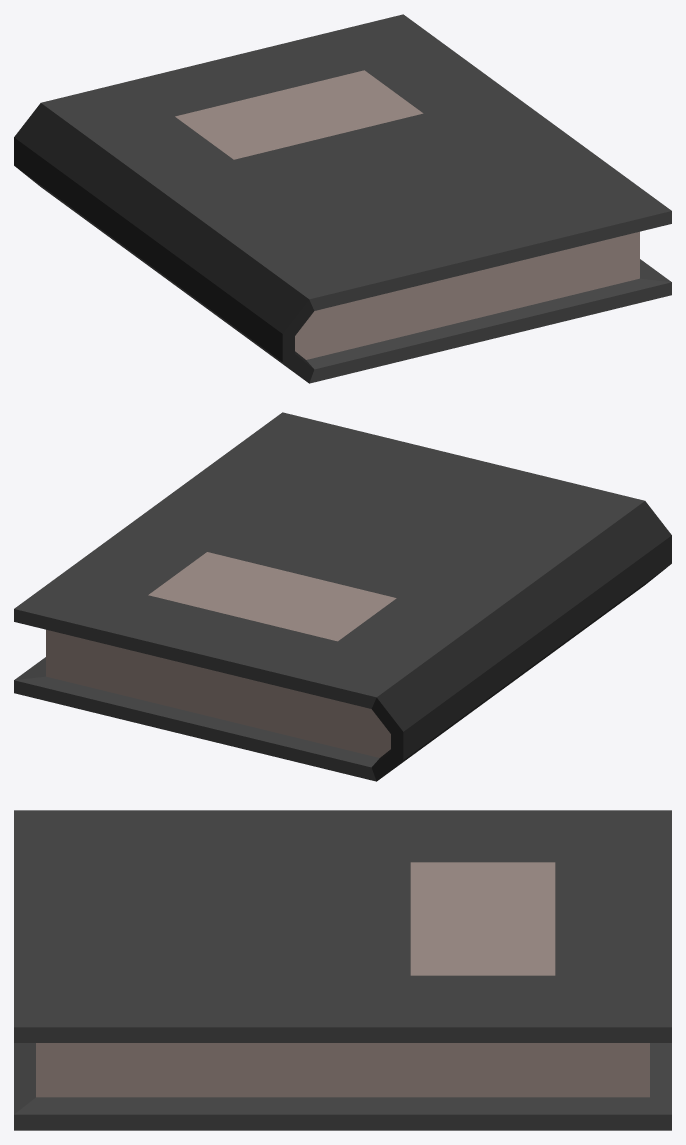
Rendered from Notebook.fbx.
The picture shows the model from 3 angles, top to bottom: view 1: azimuth 30°, elevation 25°; view 2: azimuth 150°, elevation 25°; view 3: azimuth 270°, elevation 25°; orthographic projection. The views are drawn at different scales.
Visible parts, largest first — view 1: notebook; view 2: notebook; view 3: notebook.
Boxes of the visible parts, <box> form: notebook: <box>14,14,671,383</box>; notebook: <box>14,412,671,781</box>; notebook: <box>14,810,671,1130</box>.
Size of the model in its own units: 0.5655 by 0.1169 by 0.6756.
